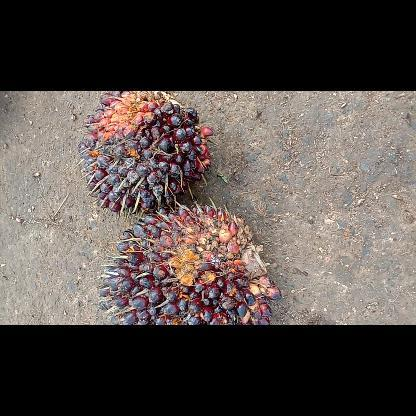Kurang masak: (96, 200, 282, 324), (76, 90, 218, 218)
